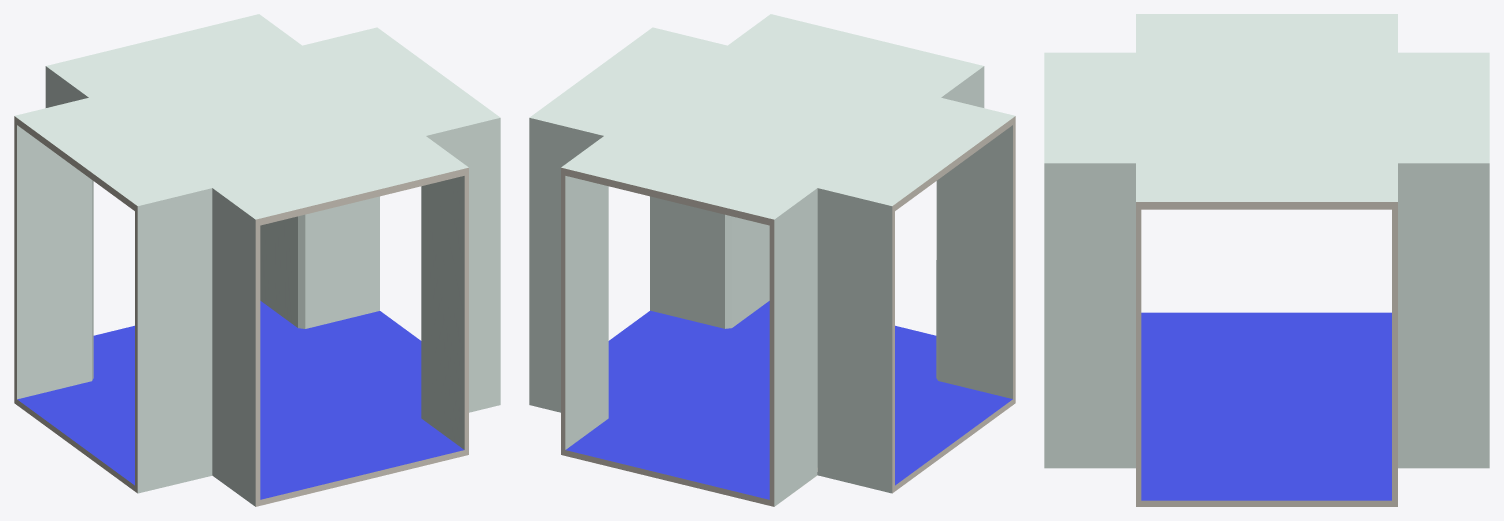
Rendered from XCorner.fbx.
The picture shows the model from 3 angles, left to right: view 1: azimuth 30°, elevation 25°; view 2: azimuth 150°, elevation 25°; view 3: azimuth 270°, elevation 25°; orthographic projection. The views are drawn at different scales.
Visible parts, largest first — view 1: XCorner; view 2: XCorner; view 3: XCorner.
Part boxes in pixels (box(x1,y1,x2,y2)): XCorner: box(14, 14, 500, 506); XCorner: box(529, 14, 1015, 506); XCorner: box(1044, 14, 1489, 506).
Size of the model in its own units: 1454 by 1101 by 1456.
